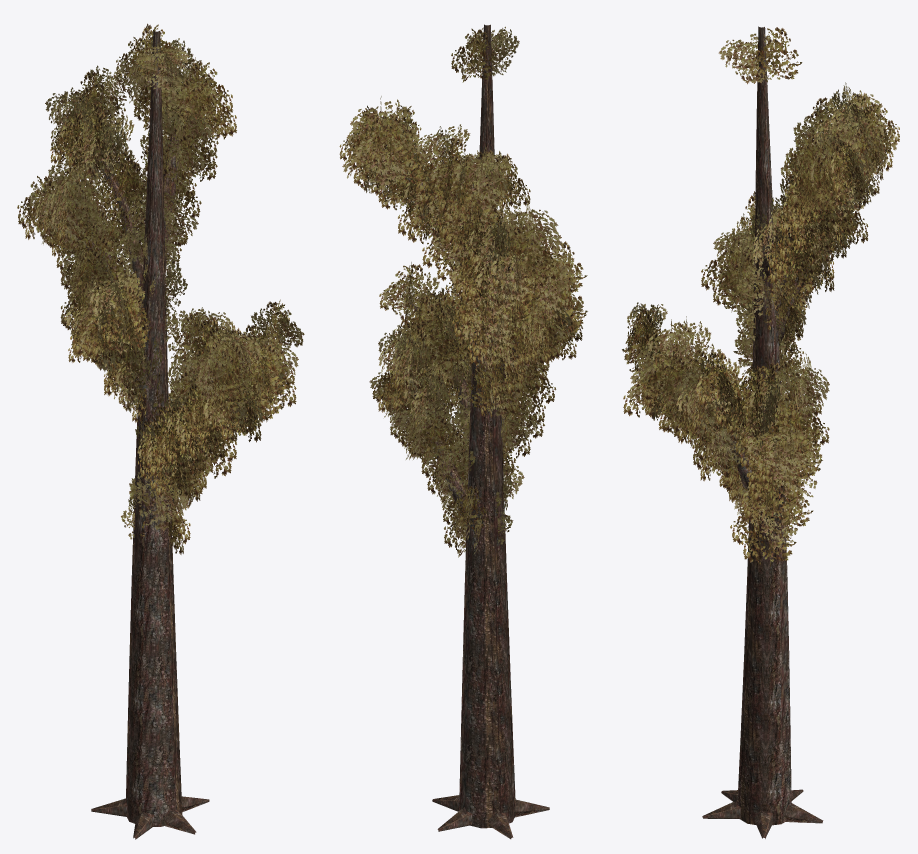
Rendered from tree_3d_02_golden_beige_lod0.glb.
3 views of the same model, side by side, from view 1: azimuth 30°, elevation 25°; view 2: azimuth 150°, elevation 25°; view 3: azimuth 270°, elevation 25° (orthographic).
Parts seen in each view (by area): view 1: foliage_cards, wood_geometry; view 2: foliage_cards, wood_geometry; view 3: foliage_cards, wood_geometry.
Boxes of the visible parts, x1=… form: foliage_cards: x1=17, y1=23, x2=304, y2=554; wood_geometry: x1=76, y1=30, x2=270, y2=839; foliage_cards: x1=339, y1=26, x2=587, y2=557; wood_geometry: x1=384, y1=24, x2=549, y2=839; foliage_cards: x1=622, y1=27, x2=899, y2=566; wood_geometry: x1=658, y1=26, x2=872, y2=838.
Size of the model in its own units: 3.82 by 12.59 by 4.1.
Materials: 2 (2 with a texture image).
